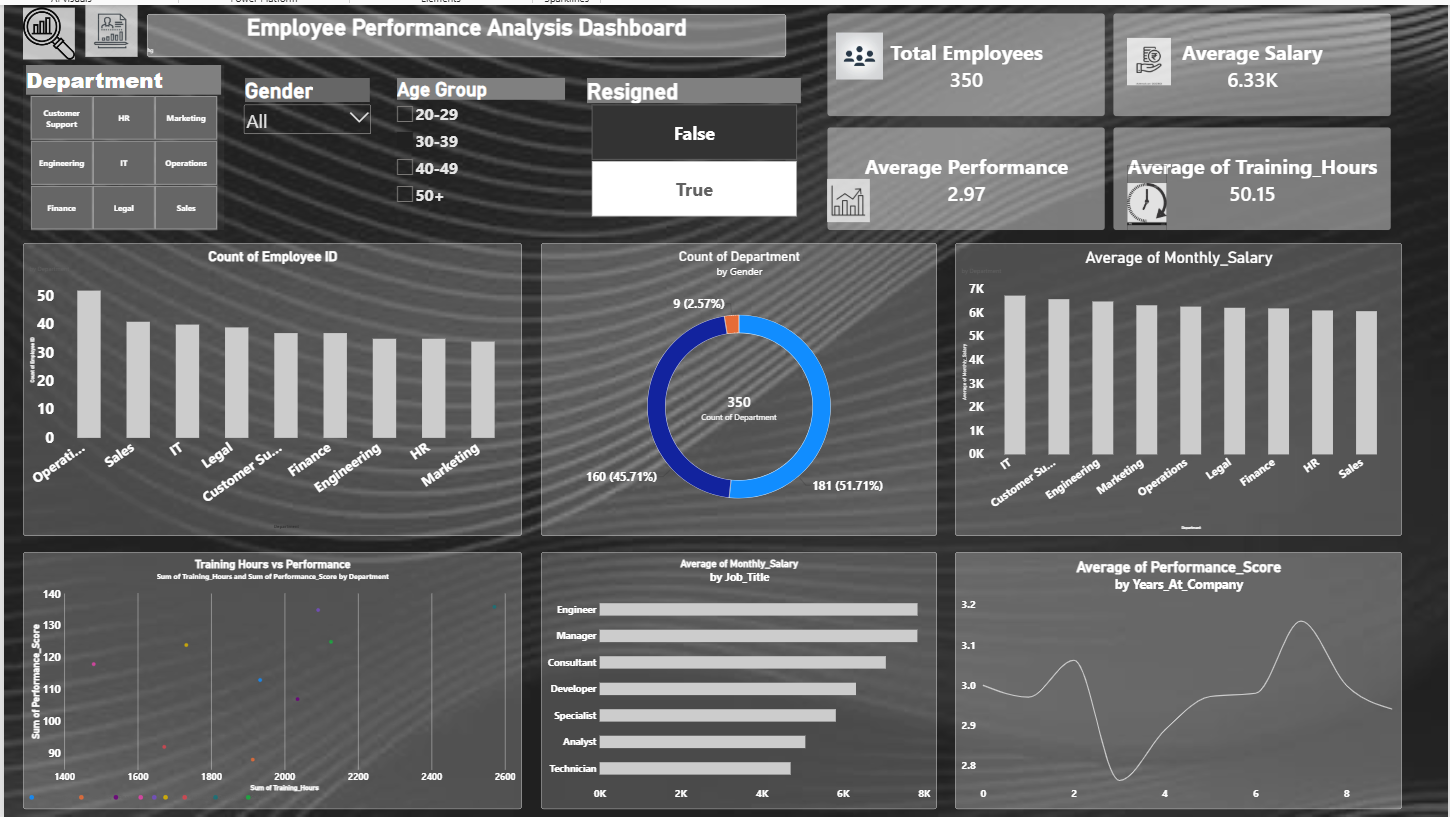

The page's visual inventory and layout, read from the dashboard file:
{"tool":"powerbi","page":{"name":"Page 2","canvas":[3840,2160],"ordinal":0},"visuals":[{"type":"cardVisual","fields":{"Data":["CountNonNull(Employees Cleaned Datasets(employee cleaned data).Employee ID)"]},"box":[2189.3,21.3,740,275],"z":0},{"type":"textbox","title":"Employee Performance Analysis Dashboard","box":[380.4,23.9,1699.8,114.4],"z":1000},{"type":"cardVisual","fields":{"Data":["Avg(Employees Cleaned Datasets(employee cleaned data).Monthly_Salary)"]},"box":[2950,21.3,740,275],"z":2000},{"type":"cardVisual","fields":{"Data":["Avg(Employees Cleaned Datasets(employee cleaned data).Performance_Score)"]},"box":[2189.3,324.5,740,275],"z":3000},{"type":"cardVisual","fields":{"Data":["Avg(Employees Cleaned Datasets(employee cleaned data).Training_Hours)"]},"box":[2950,324.5,740,275],"z":4000},{"type":"columnChart","fields":{"Category":["Employees Cleaned Datasets(employee cleaned data).Department"],"Y":["CountNonNull(Employees Cleaned Datasets(employee cleaned data).Employee ID)"]},"box":[50.5,633.1,1327.4,779.4],"z":4001},{"type":"donutChart","fields":{"Y":["CountNonNull(Employees Cleaned Datasets(employee cleaned data).Department)"],"Category":["Employees Cleaned Datasets(employee cleaned data).Gender"]},"box":[1428.5,633.1,1053.4,779.4],"z":4002},{"type":"clusteredColumnChart","fields":{"Category":["Employees Cleaned Datasets(employee cleaned data).Department"],"Y":["Avg(Employees Cleaned Datasets(employee cleaned data).Monthly_Salary)"]},"box":[2529.8,633.1,1189.1,779.4],"z":4003},{"type":"scatterChart","title":"Training Hours vs Performance","fields":{"X":["Sum(Employees Cleaned Datasets(employee cleaned data).Training_Hours)"],"Y":["Sum(Employees Cleaned Datasets(employee cleaned data).Performance_Score)"],"Series":["Employees Cleaned Datasets(employee cleaned data).Department"]},"box":[50.5,1455.1,1327.4,683.6],"z":4004},{"type":"clusteredBarChart","fields":{"Category":["Employees Cleaned Datasets(employee cleaned data).Job_Title"],"Y":["Avg(Employees Cleaned Datasets(employee cleaned data).Monthly_Salary)"]},"box":[1428.5,1455.1,1053.4,683.6],"z":4005},{"type":"lineChart","fields":{"Category":["Employees Cleaned Datasets(employee cleaned data).Years_At_Company"],"Y":["Avg(Employees Cleaned Datasets(employee cleaned data).Performance_Score)"]},"box":[2530,1455,1189,684],"z":4006},{"type":"slicer","fields":{"Values":["Employees Cleaned Datasets(employee cleaned data).Department"]},"box":[50.5,159.6,534.7,438.9],"z":4007},{"type":"slicer","fields":{"Values":["Employees Cleaned Datasets(employee cleaned data).Gender"]},"box":[633.1,194.2,348.5,369.8],"z":4008},{"type":"slicer","fields":{"Values":["Employees Cleaned Datasets(employee cleaned data).Age Group"]},"box":[1037.4,194.2,462.9,369.8],"z":4009},{"type":"slicer","fields":{"Values":["Employees Cleaned Datasets(employee cleaned data).Resigned"]},"box":[1542.9,194.2,585.2,369.8],"z":4010},{"type":"image","box":[98.4,0,375.1,138.3],"z":4011},{"type":"image","box":[2987.3,425.6,106.4,207.5],"z":4012},{"type":"image","box":[2987.3,50.5,117,199.5],"z":4013},{"type":"image","box":[2213.2,21.3,125,228.8],"z":4014},{"type":"image","box":[2189.3,425.6,114.4,188.9],"z":4015},{"type":"image","box":[50.5,0,138.3,151.6],"z":4016}]}

Visuals, with their boxes in screenshot pixels (x1, y1, x2, y2):
cardVisual - CountNonNull(Employees Cleaned Datasets(employee cleaned data).Employee ID): [left=826, top=4, right=1112, bottom=111]
"Employee Performance Analysis Dashboard" textbox: [left=128, top=5, right=784, bottom=50]
cardVisual - Avg(Employees Cleaned Datasets(employee cleaned data).Monthly_Salary): [left=1120, top=4, right=1406, bottom=111]
cardVisual - Avg(Employees Cleaned Datasets(employee cleaned data).Performance_Score): [left=826, top=121, right=1112, bottom=228]
cardVisual - Avg(Employees Cleaned Datasets(employee cleaned data).Training_Hours): [left=1120, top=121, right=1406, bottom=228]
columnChart - Employees Cleaned Datasets(employee cleaned data).Department x CountNonNull(Employees Cleaned Datasets(employee cleaned data).Employee ID): [left=1, top=241, right=513, bottom=542]
donutChart - CountNonNull(Employees Cleaned Datasets(employee cleaned data).Department) x Employees Cleaned Datasets(employee cleaned data).Gender: [left=533, top=241, right=939, bottom=542]
clusteredColumnChart - Employees Cleaned Datasets(employee cleaned data).Department x Avg(Employees Cleaned Datasets(employee cleaned data).Monthly_Salary): [left=958, top=241, right=1417, bottom=542]
"Training Hours vs Performance" scatterChart: [left=1, top=558, right=513, bottom=816]
clusteredBarChart - Employees Cleaned Datasets(employee cleaned data).Job_Title x Avg(Employees Cleaned Datasets(employee cleaned data).Monthly_Salary): [left=533, top=558, right=939, bottom=816]
lineChart - Employees Cleaned Datasets(employee cleaned data).Years_At_Company x Avg(Employees Cleaned Datasets(employee cleaned data).Performance_Score): [left=958, top=558, right=1417, bottom=816]
slicer - Employees Cleaned Datasets(employee cleaned data).Department: [left=1, top=58, right=207, bottom=227]
slicer - Employees Cleaned Datasets(employee cleaned data).Gender: [left=226, top=71, right=360, bottom=214]
slicer - Employees Cleaned Datasets(employee cleaned data).Age Group: [left=382, top=71, right=560, bottom=214]
slicer - Employees Cleaned Datasets(employee cleaned data).Resigned: [left=577, top=71, right=803, bottom=214]
image: [left=19, top=0, right=164, bottom=50]
image: [left=1134, top=161, right=1176, bottom=241]
image: [left=1134, top=16, right=1180, bottom=93]
image: [left=836, top=4, right=884, bottom=93]
image: [left=826, top=161, right=871, bottom=233]
image: [left=1, top=0, right=54, bottom=55]
